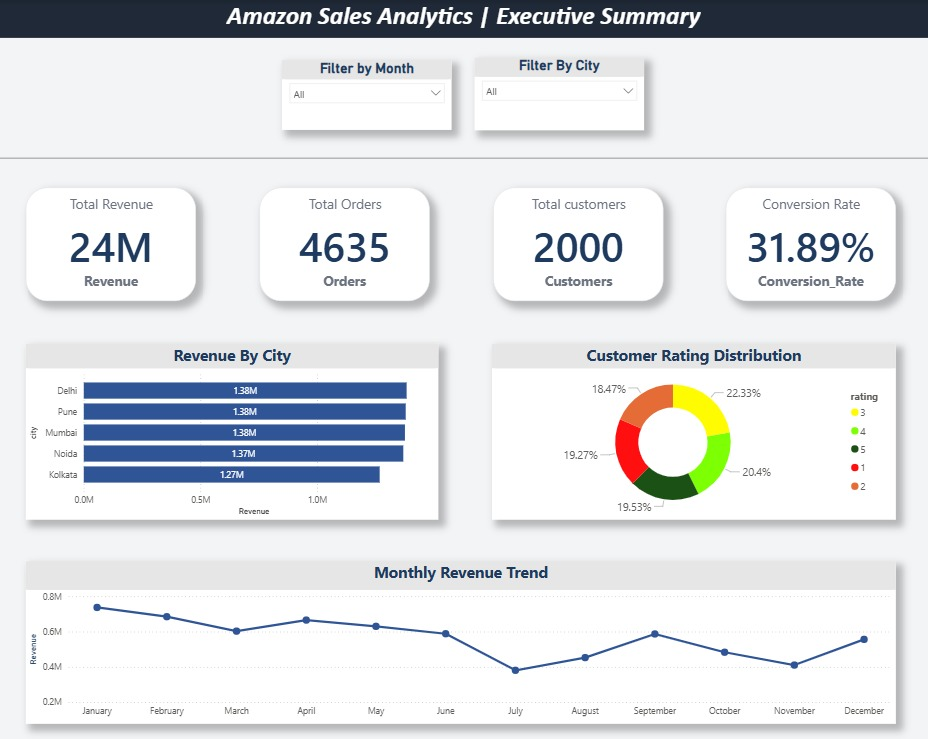

Layout of this report page (visuals, bound fields, positions):
{"tool":"powerbi","page":{"name":"Executive Summary","canvas":[1280,1024],"ordinal":0},"visuals":[{"type":"card","title":"Total Revenue","fields":{"Values":["customers.total_revenue"]},"box":[40.2,257.4,233.4,156.1],"z":0},{"type":"textbox","title":"Amazon Sales Analytics | Executive Summary","box":[1.8,0,1277.9,51.6],"z":1000},{"type":"card","title":"Total Orders","fields":{"Values":["customers.Total_orders"]},"box":[360.5,257.4,233.4,156.1],"z":2000},{"type":"card","title":"Total customers","fields":{"Values":["Count(customers.cid)"]},"box":[680.8,257.4,233.4,156.1],"z":3000},{"type":"card","title":"Conversion Rate","fields":{"Values":["customers.Conversion_Rate"]},"box":[1001.1,257.4,233.4,156.1],"z":4000},{"type":"lineChart","title":"Monthly Revenue Trend","fields":{"Y":["customers.Revenue"],"Category":["orders.order_date.Variation.Date Hierarchy.Month"]},"box":[39.5,770.4,1194.2,223.1],"z":5000},{"type":"clusteredBarChart","title":"Revenue By City","fields":{"Category":["customers.city"],"Y":["customers.Revenue"]},"box":[40.2,472.2,566.2,241.9],"z":6000},{"type":"donutChart","title":"Customer Rating Distribution","fields":{"Category":["feedback.rating"],"Y":["CountNonNull(feedback.fid)"]},"box":[680.2,472.2,554.2,241.9],"z":7000},{"type":"slicer","title":"Filter by Month","fields":{"Values":["orders.order_date.Variation.Date Hierarchy.Month"]},"box":[391.7,83.3,233.2,96.1],"z":8000,"group":"g1"},{"type":"shape","box":[1.8,142.4,1277.9,149.5],"z":8000},{"type":"group","id":"g1","title":"Group 1","box":[391.7,79.7,496.6,99.7],"z":9000},{"type":"slicer","title":"Filter By City","fields":{"Values":["customers.city"]},"box":[655.1,79.7,233.2,99.7],"z":9000,"group":"g1"}]}

Visuals, with their boxes in screenshot pixels (x1, y1, x2, y2), scaled from the page's 1280x1024 canvas onto the 928x739 screenshot:
"Total Revenue" card: (29, 186, 198, 298)
"Amazon Sales Analytics | Executive Summary" textbox: (1, 0, 927, 37)
"Total Orders" card: (261, 186, 431, 298)
"Total customers" card: (494, 186, 663, 298)
"Conversion Rate" card: (726, 186, 895, 298)
"Monthly Revenue Trend" lineChart: (29, 556, 894, 717)
"Revenue By City" clusteredBarChart: (29, 341, 440, 515)
"Customer Rating Distribution" donutChart: (493, 341, 895, 515)
"Filter by Month" slicer: (284, 60, 453, 129)
shape: (1, 103, 927, 211)
"Group 1" group: (284, 58, 644, 129)
"Filter By City" slicer: (475, 58, 644, 129)
